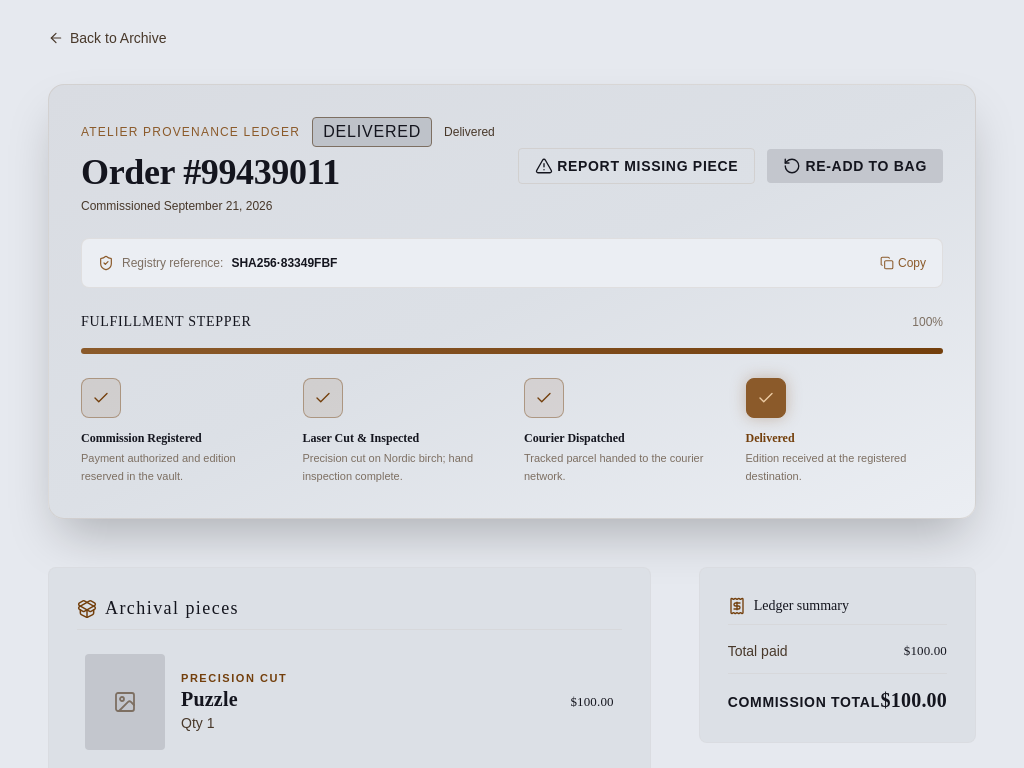
Scenario: Orders Feature › Reorder flow shows an error toast when stock validation fails
Step 1. Click the button "Re-add to Bag" → (855, 166), box [767,148,943,183]
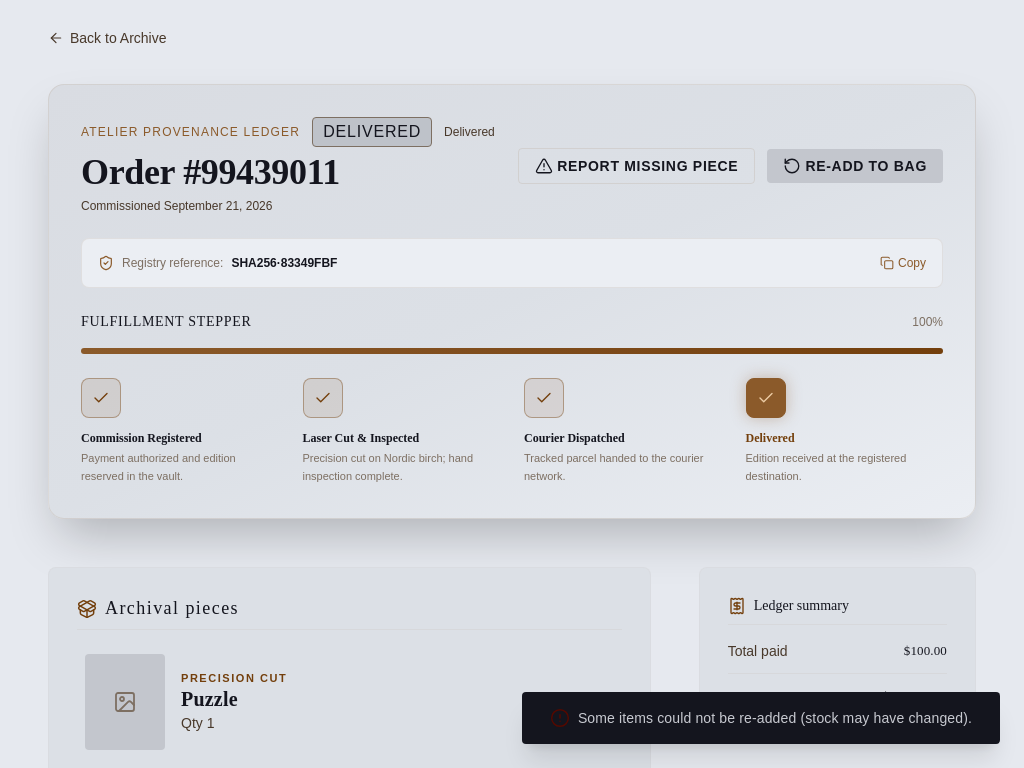
Check: the text "Some items could not be re-added (stock may have changed)." is shown, box [578,709,972,727]
